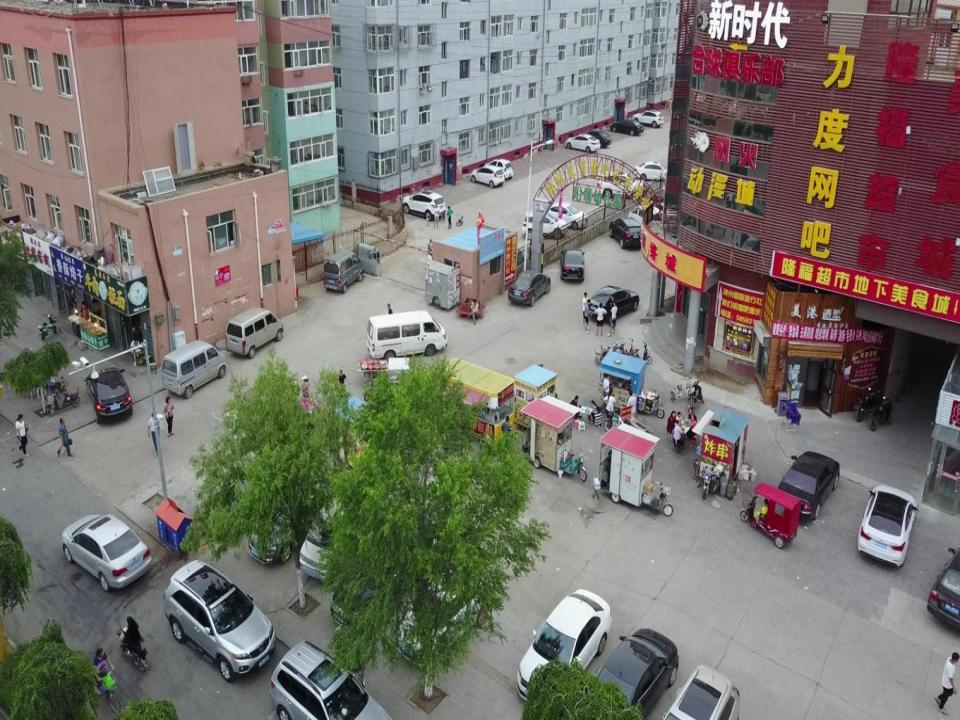car: (160, 560, 278, 682), (395, 552, 502, 668), (515, 588, 612, 704), (329, 528, 440, 629), (269, 637, 398, 720), (575, 625, 680, 720), (58, 498, 154, 591), (857, 482, 918, 568), (776, 447, 840, 522), (84, 365, 136, 425), (586, 282, 640, 323), (504, 266, 550, 307), (627, 200, 668, 242), (594, 167, 650, 197), (400, 189, 447, 220), (520, 208, 568, 238), (607, 216, 645, 252), (546, 202, 588, 229), (558, 246, 586, 285), (563, 130, 601, 153), (469, 165, 505, 188), (633, 160, 671, 181), (482, 157, 515, 180), (608, 116, 644, 136), (579, 128, 612, 149), (632, 109, 666, 128)
van: (299, 479, 387, 582), (365, 310, 447, 362), (161, 339, 229, 400), (225, 308, 285, 358), (322, 248, 364, 292)
